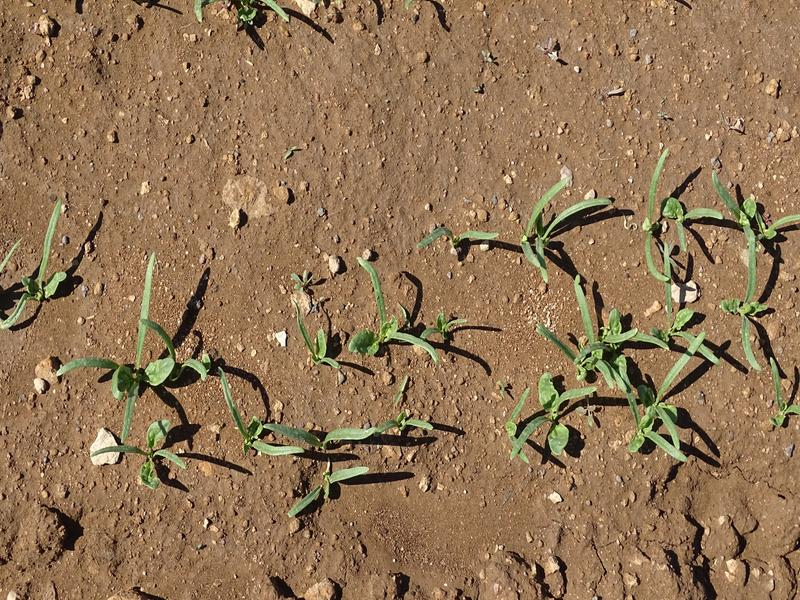Espinaca: (448, 159, 795, 466), (243, 263, 440, 518), (59, 242, 216, 482), (1, 199, 82, 325)
